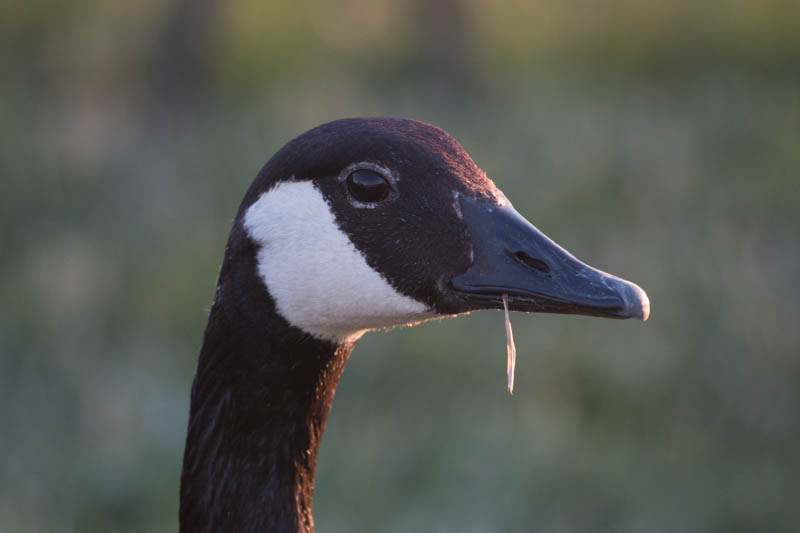goose-head: (200, 117, 652, 344)
